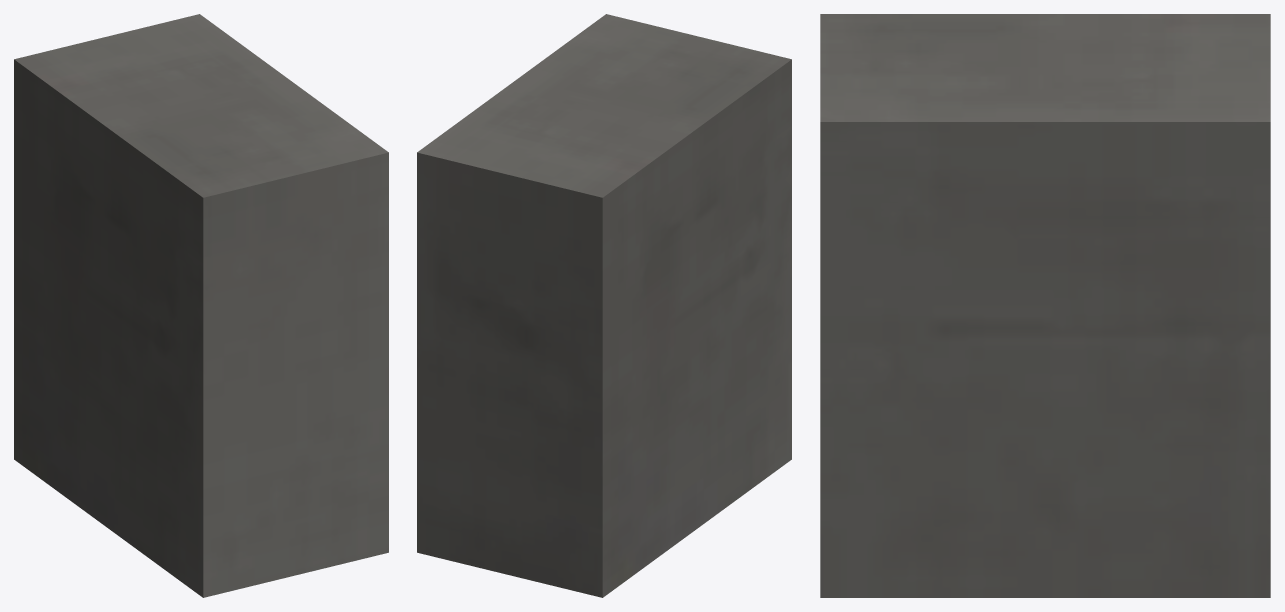
Rendered from frame__ladder_tooth_1.glb.
3 views of the same model, side by side, from view 1: azimuth 30°, elevation 25°; view 2: azimuth 150°, elevation 25°; view 3: azimuth 270°, elevation 25° (orthographic). The views are drawn at different scales.
Parts seen in each view (by area): view 1: world; view 2: world; view 3: world.
Boxes of the visible parts, bbox=[...] form: world: bbox=[14, 14, 388, 597]; world: bbox=[417, 14, 791, 597]; world: bbox=[820, 14, 1270, 597].
Size of the model in its own units: 0.034 by 0.07 by 0.06.
1 material, 1 textured.
